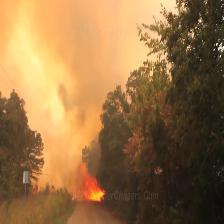fire: (69, 156, 114, 209)
smoke: (0, 1, 180, 166)
